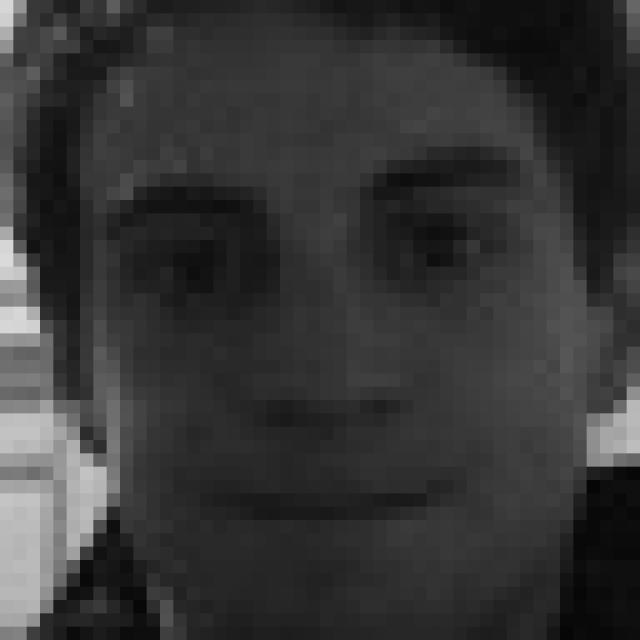neutral: (90, 135, 531, 581)
